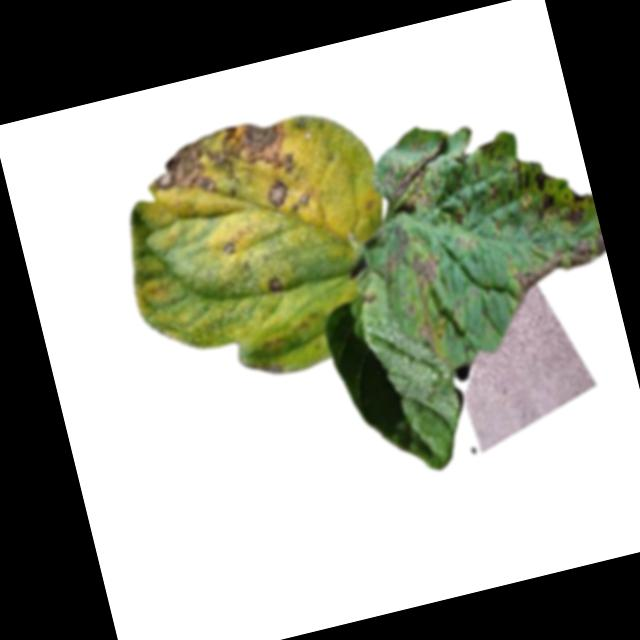Early_blight: (139, 112, 300, 209), (507, 231, 612, 302), (373, 137, 459, 218), (499, 152, 560, 226), (557, 188, 598, 232), (406, 249, 445, 291), (415, 315, 439, 353), (264, 177, 290, 206), (288, 191, 315, 213), (476, 136, 499, 160), (482, 178, 502, 202), (451, 206, 470, 227), (360, 284, 379, 305), (266, 273, 284, 294), (221, 239, 237, 256)
